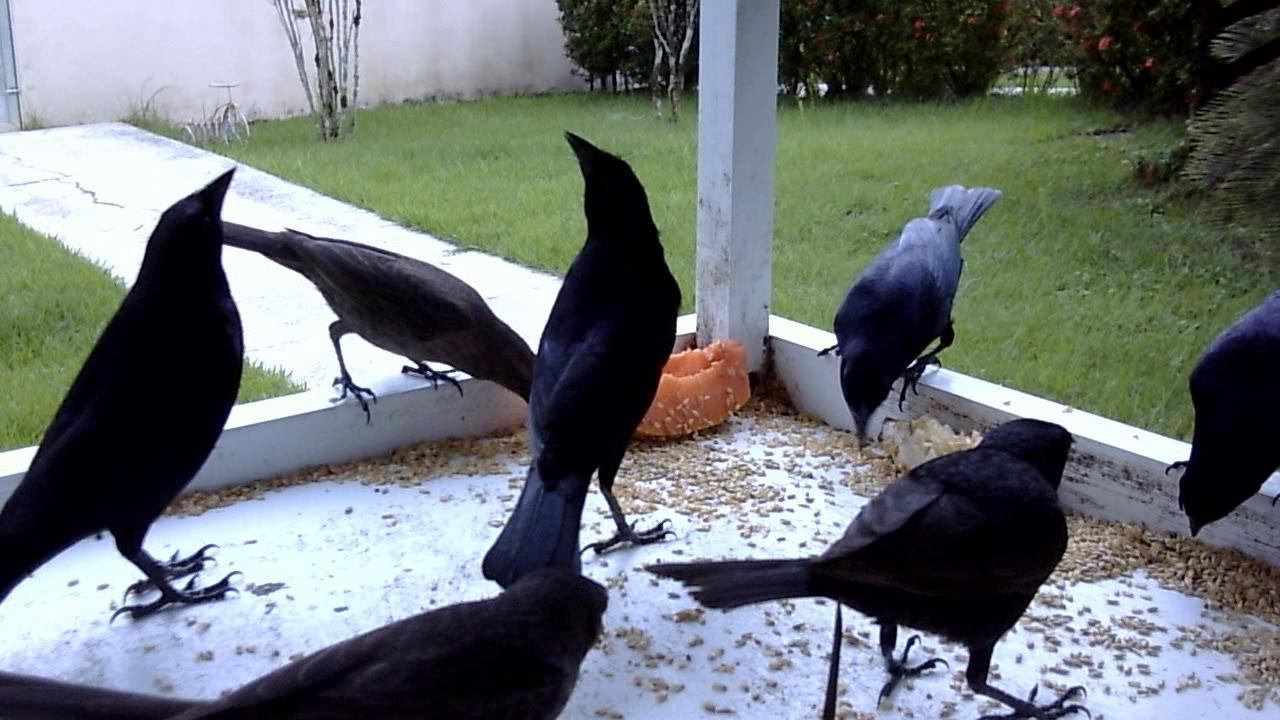chupim: (665, 389, 1098, 720), (1, 154, 267, 655), (466, 127, 690, 587), (80, 538, 640, 716), (209, 204, 543, 450), (816, 182, 1002, 453), (1160, 270, 1278, 552)
